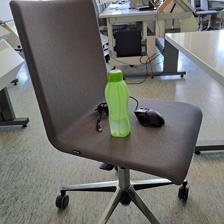bottle: (103, 69, 131, 138)
mouse: (133, 106, 165, 128)
